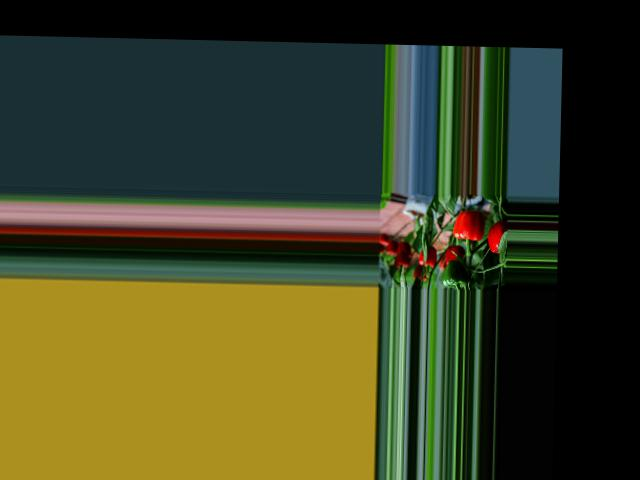bell_pepper: (416, 240, 436, 272)
